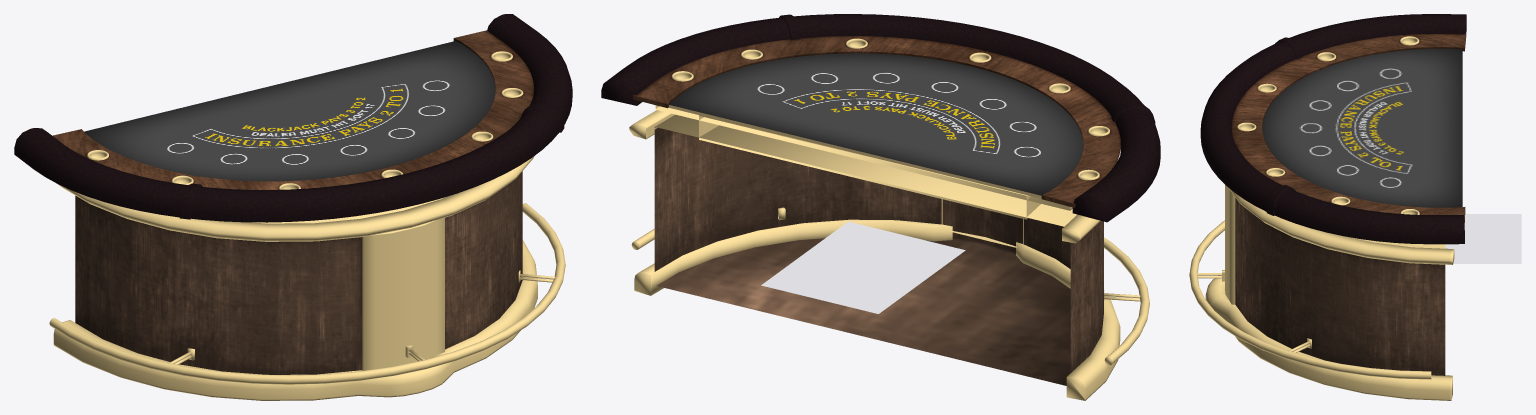
Rendered from Casinoi_Table_MaterialCombine.fbx.
3 views of the same model, side by side, from view 1: azimuth 30°, elevation 25°; view 2: azimuth 150°, elevation 25°; view 3: azimuth 270°, elevation 25° (orthographic). The views are drawn at different scales.
Visible parts, largest first — view 1: BlackJack; view 2: BlackJack, Glass; view 3: BlackJack, Glass.
Part boxes in pixels (bbox=[...]): BlackJack: bbox=[14, 14, 572, 400]; BlackJack: bbox=[601, 14, 1160, 400]; Glass: bbox=[761, 221, 965, 313]; BlackJack: bbox=[1189, 14, 1466, 400]; Glass: bbox=[1445, 214, 1521, 263].
Size of the model in its own units: 1355 by 552 by 881.
Materials: 2 (1 with a texture image).
